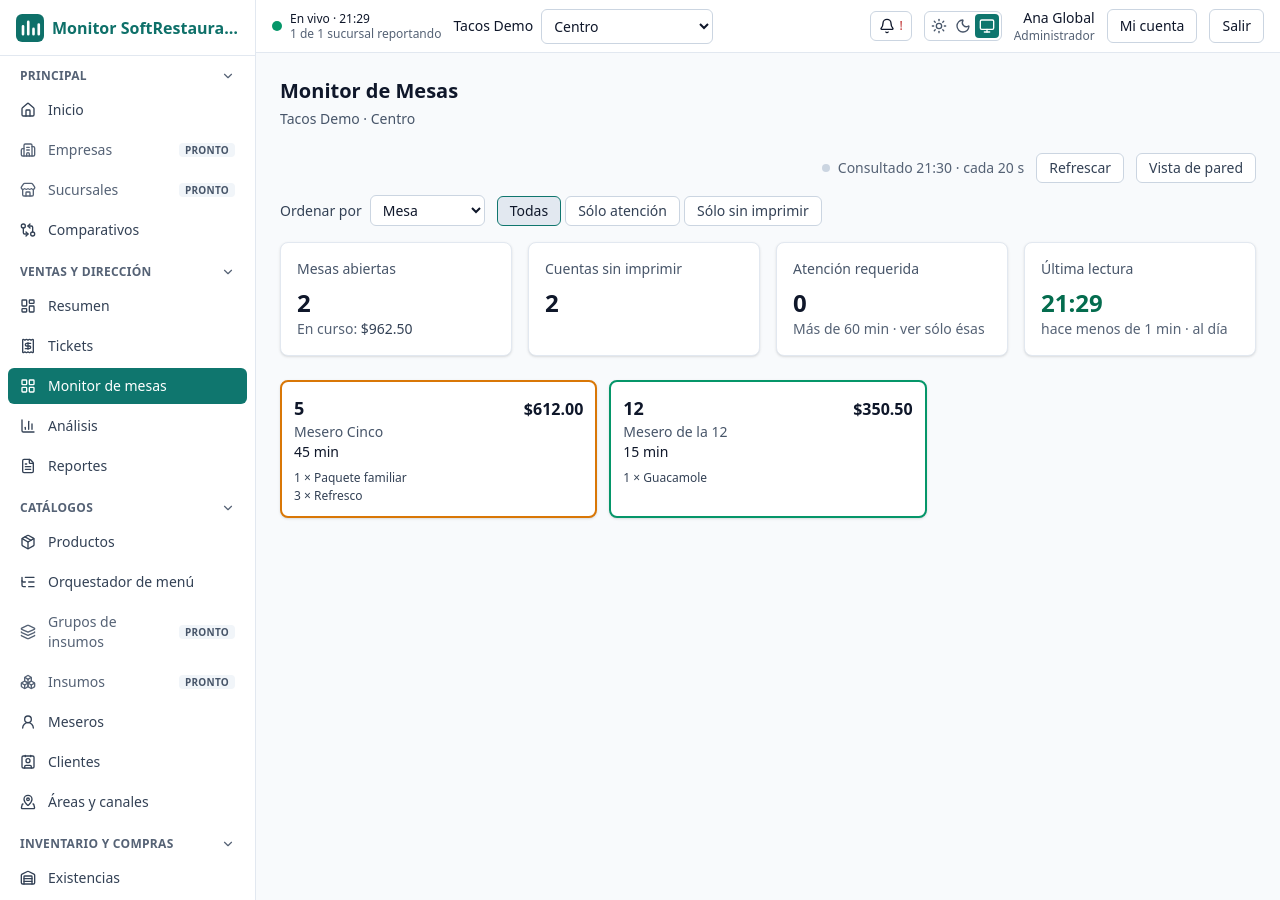
Test: Detalle de consumo (modal, F1-051) › clic en la mesa: encabezado, partidas y total de la cuenta
Expected: the text with test id "kpi-mesas" is shown, [297,286,311,319]
Click the button named "Ver consumo de Mesa 5" at (439, 449), box [282,382,595,516]
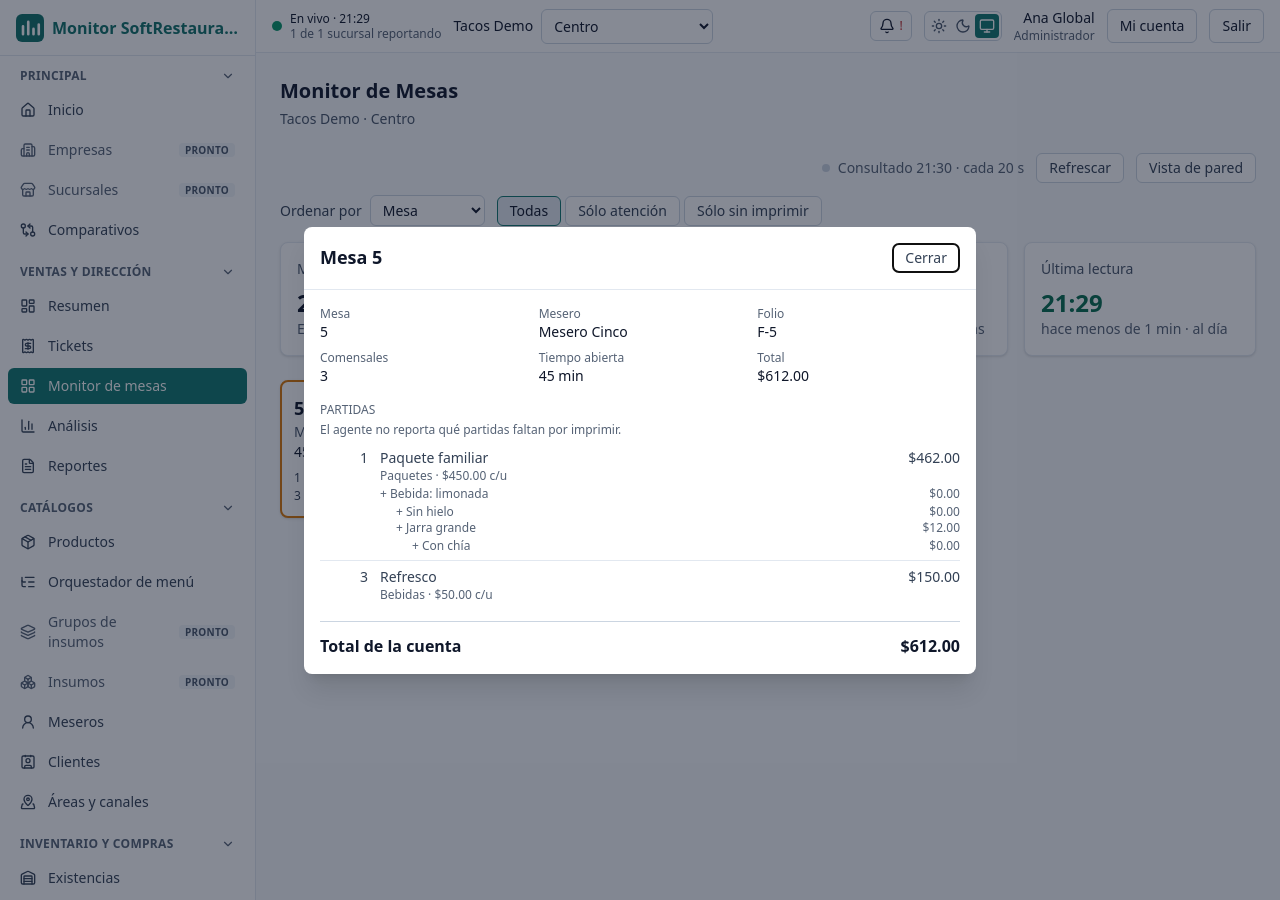
Expected: the text with test id "detalle-mesa" reads "5", [320,322,328,340]
Expected: the text with test id "detalle-mesero" reads "Mesero Cinco", [539,322,628,340]
Expected: the text with test id "detalle-folio" reads "F-5", [757,322,777,340]
